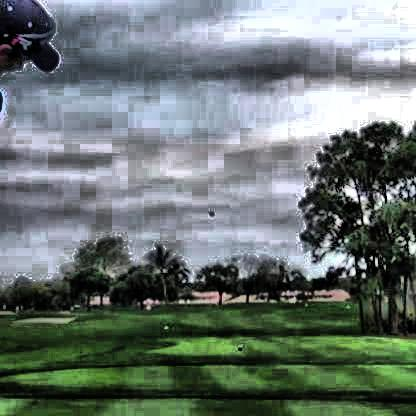golfball: (205, 206, 214, 215)
